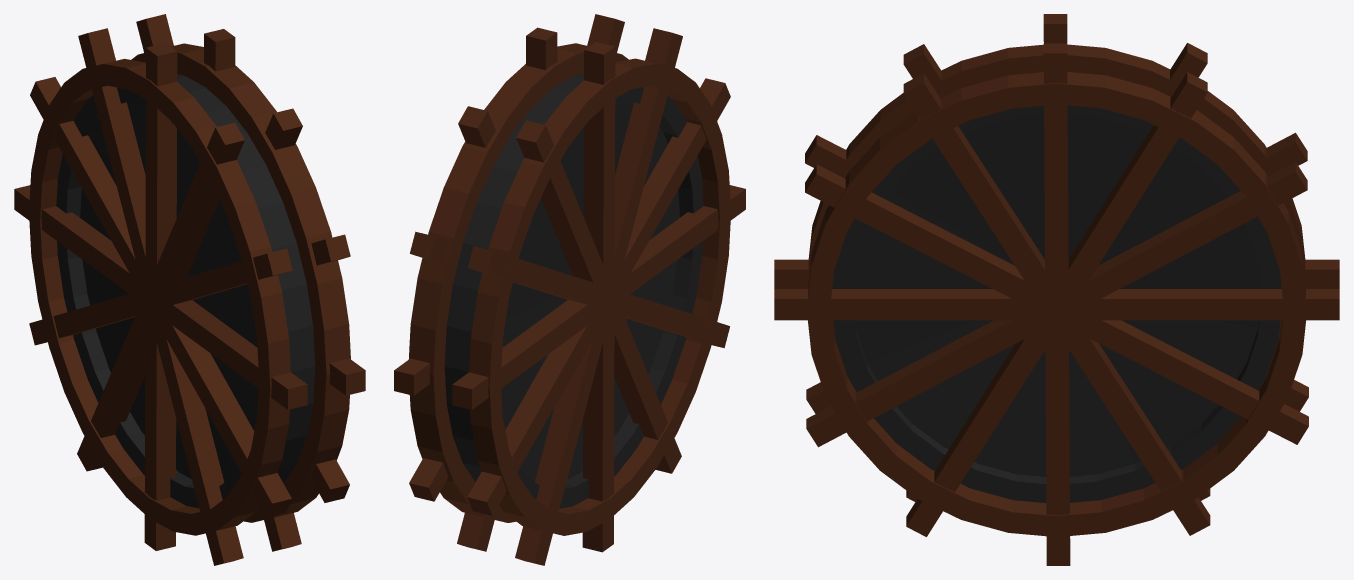
Rendered from Gear.obj.
The picture shows the model from 3 angles, left to right: view 1: azimuth 30°, elevation 25°; view 2: azimuth 150°, elevation 25°; view 3: azimuth 270°, elevation 25°; orthographic projection. The views are drawn at different scales.
Parts seen in each view (by area): view 1: 円, 円.002; view 2: 円, 円.002; view 3: 円, 円.002.
Part boxes in pixels (x1,y1,x2,y2): 円: (14,14,365,565); 円.002: (56,74,315,508); 円: (394,14,745,565); 円.002: (444,73,703,508); 円: (774,14,1339,565); 円.002: (832,105,1281,502).
Size of the model in its own units: 0.8808 by 5.17 by 5.17.
